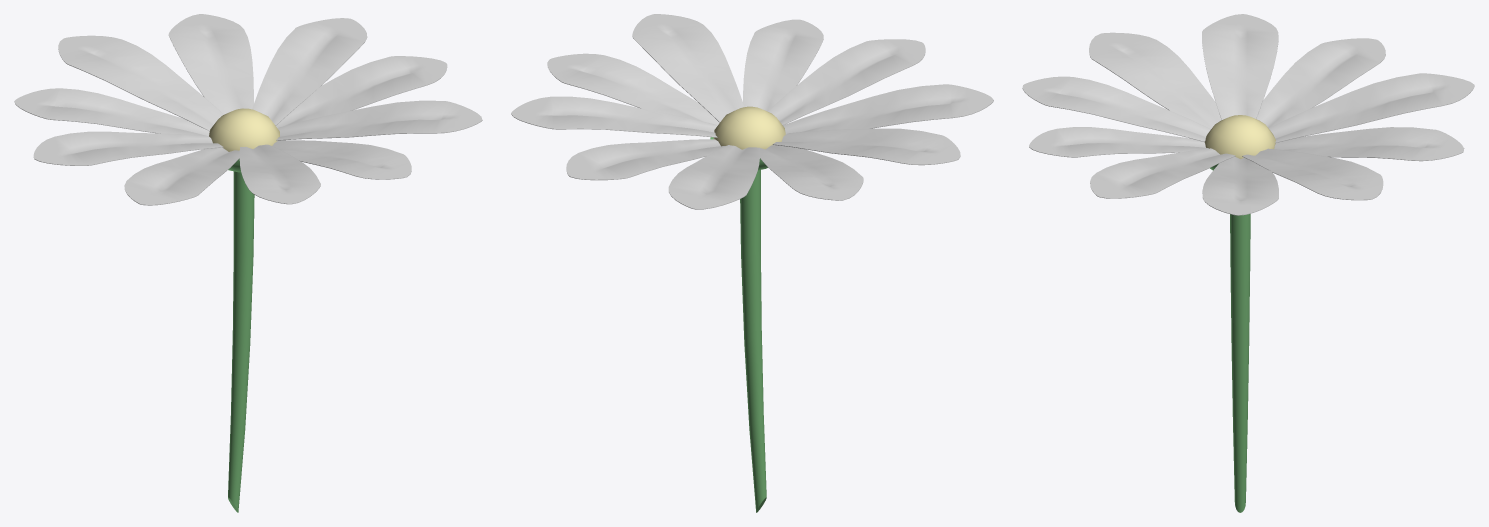
File: FlorModel.fbx
3 views of the same model, side by side, from view 1: azimuth 30°, elevation 25°; view 2: azimuth 150°, elevation 25°; view 3: azimuth 270°, elevation 25° (orthographic).
Parts seen in each view (by area): view 1: Line03, Line05, Line04, Cylinder02, Line07, Line06, Line02, Line01, Line10, Line08, Line09, Sphere01; view 2: Line07, Cylinder02, Line09, Line10, Line06, Line05, Line08, Line01, Line04, Line03, Line02, Sphere01; view 3: Line03, Line01, Line10, Line02, Cylinder02, Line09, Line04, Line05, Line07, Line08, Line06, Sphere01.
Boxes of the visible parts, x1,y1,x2,y2 form: Line03: (58, 35, 223, 130); Line05: (252, 18, 367, 125); Line04: (168, 14, 253, 114); Cylinder02: (228, 171, 254, 512); Line07: (276, 100, 482, 140); Line06: (276, 56, 447, 128); Line02: (14, 88, 209, 135); Line01: (33, 131, 223, 165); Line10: (124, 147, 239, 205); Line08: (272, 140, 411, 179); Line09: (239, 144, 320, 204); Sphere01: (209, 108, 279, 151); Line07: (632, 14, 744, 122); Cylinder02: (740, 170, 766, 512); Line09: (768, 39, 925, 125); Line10: (783, 84, 993, 134); Line06: (547, 53, 719, 132); Line05: (511, 96, 717, 137); Line08: (743, 19, 823, 111); Line01: (772, 128, 960, 165); Line04: (566, 139, 725, 180); Line03: (668, 145, 759, 209); Line02: (760, 145, 863, 200); Sphere01: (713, 106, 785, 149); Line03: (1269, 73, 1474, 143); Line01: (1202, 14, 1278, 119); Line10: (1089, 32, 1221, 128); Line02: (1256, 38, 1385, 128); Cylinder02: (1230, 214, 1250, 512); Line09: (1022, 76, 1210, 141); Line04: (1274, 127, 1464, 161); Line05: (1242, 148, 1383, 200); Line07: (1090, 148, 1235, 198); Line08: (1029, 127, 1208, 157); Line06: (1202, 155, 1278, 215); Sphere01: (1204, 115, 1275, 158).
Bounding box in the file's own units: 23.06 × 21.64 × 22.12.
